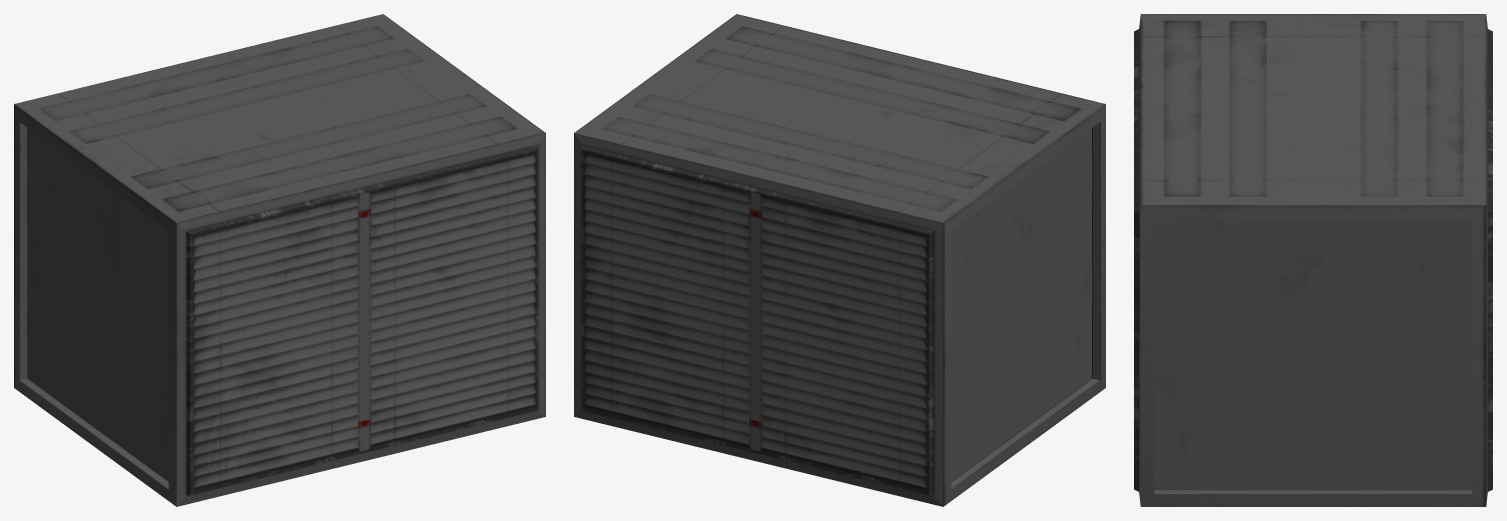
The model's file is Subway_Vents1_L1.fbx.
3 renders of one model, left to right at view 1: azimuth 30°, elevation 25°; view 2: azimuth 150°, elevation 25°; view 3: azimuth 270°, elevation 25°, orthographic. The views are drawn at different scales.
Visible parts, largest first — view 1: polySurface776; view 2: polySurface776; view 3: polySurface776.
Part boxes in pixels (x1,y1,x2,y2): polySurface776: (14,14,545,506); polySurface776: (574,14,1105,506); polySurface776: (1134,14,1492,506).
Size of the model in its own units: 108 by 78.71 by 84.91.
